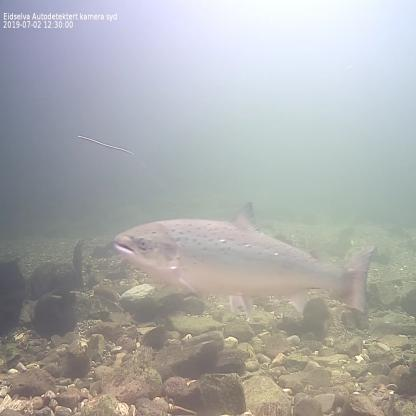salmon: (110, 198, 381, 316)
